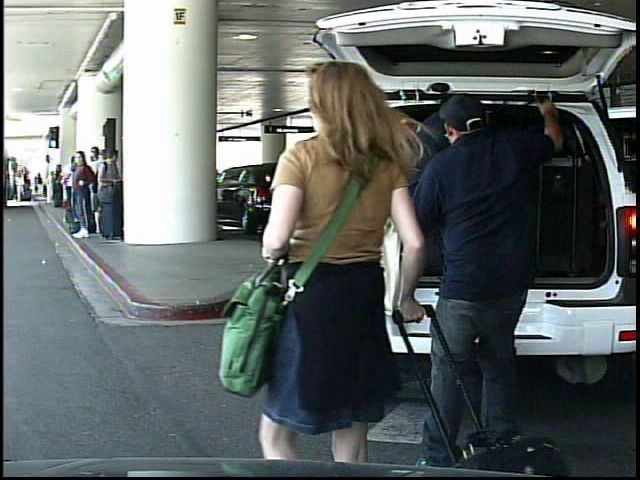person: (252, 54, 439, 470), (416, 84, 556, 429), (15, 174, 26, 205), (35, 172, 46, 199)
